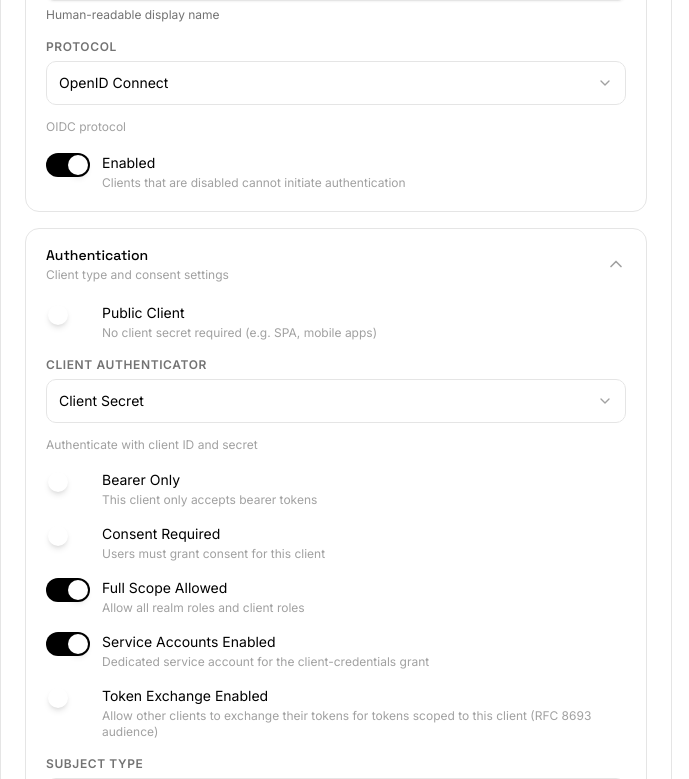
Test case: ClientEditPage › lists the client authenticator options from serverinfo with descriptions
The width and height of the screenshot is (689, 779).
(page scrolled)
Click the button named "Client Authenticator" at (101,400), box left=46, top=378, right=626, bottom=422
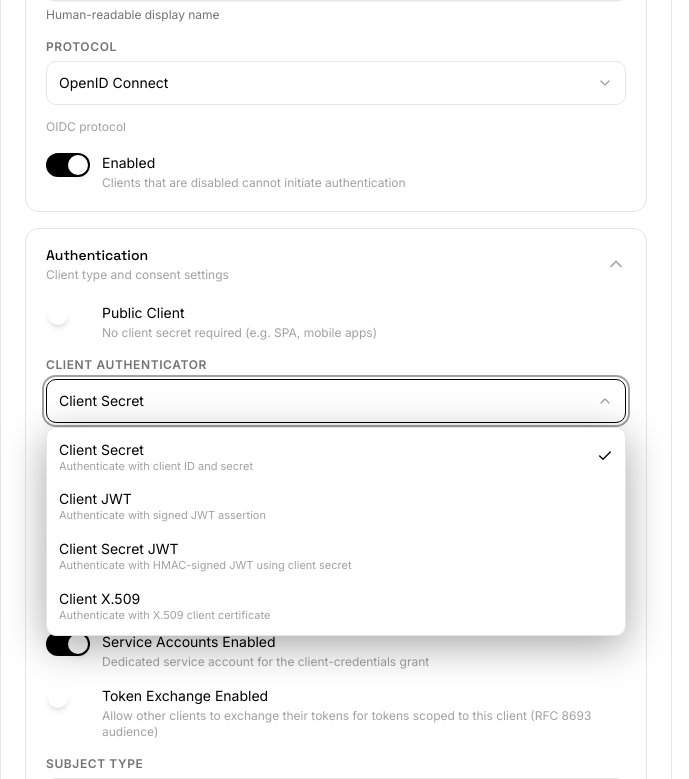
Expected: the text "Authenticate with signed JWT assertion" is shown, left=59, top=509, right=266, bottom=523
Expected: the option "Client Secret Authenticate with client ID and secret" is shown, left=47, top=432, right=625, bottom=481
Expected: the option with aria-label "Authenticate with HMAC-signed JWT using client secret" is shown, left=59, top=540, right=352, bottom=572
